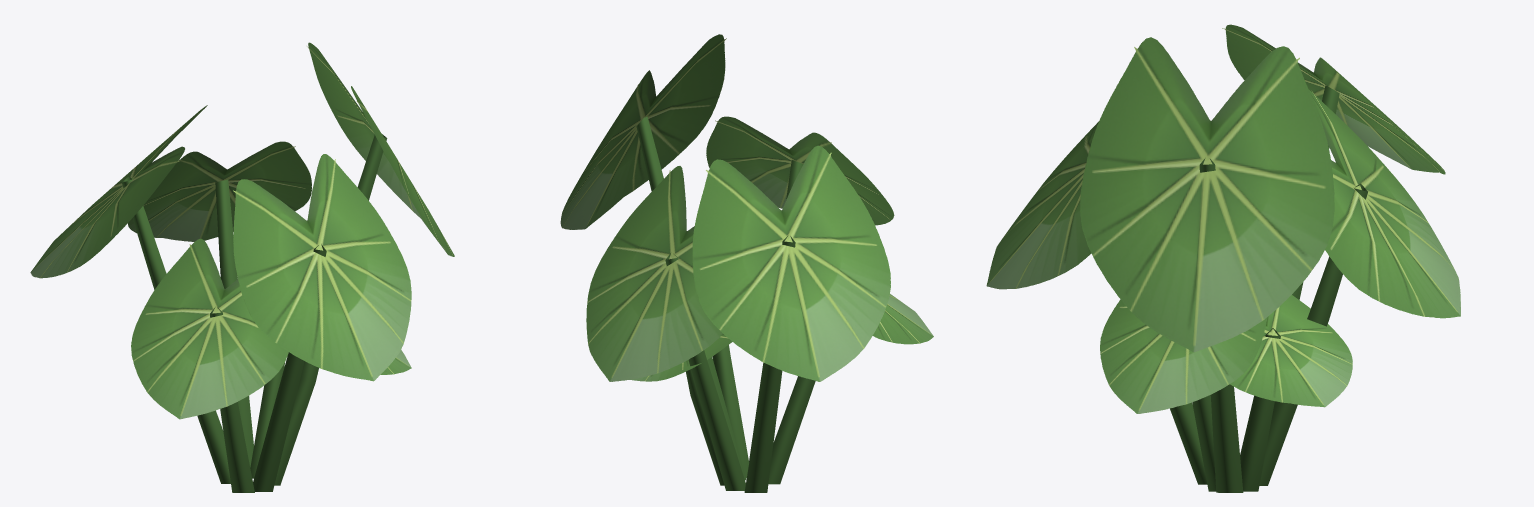
File: keladi.glb
The picture shows the model from 3 angles, left to right: view 1: azimuth 30°, elevation 25°; view 2: azimuth 150°, elevation 25°; view 3: azimuth 270°, elevation 25°; orthographic projection. The views are drawn at different scales.
Parts seen in each view (by area): view 1: keladi_mesh; view 2: keladi_mesh; view 3: keladi_mesh.
Boxes of the visible parts, bbox=[...] form: keladi_mesh: bbox=[30, 42, 454, 492]; keladi_mesh: bbox=[560, 34, 933, 492]; keladi_mesh: bbox=[986, 24, 1460, 492].
Size of the model in its own units: 0.9917 by 0.9722 by 0.9727.
1 material, 1 textured.
